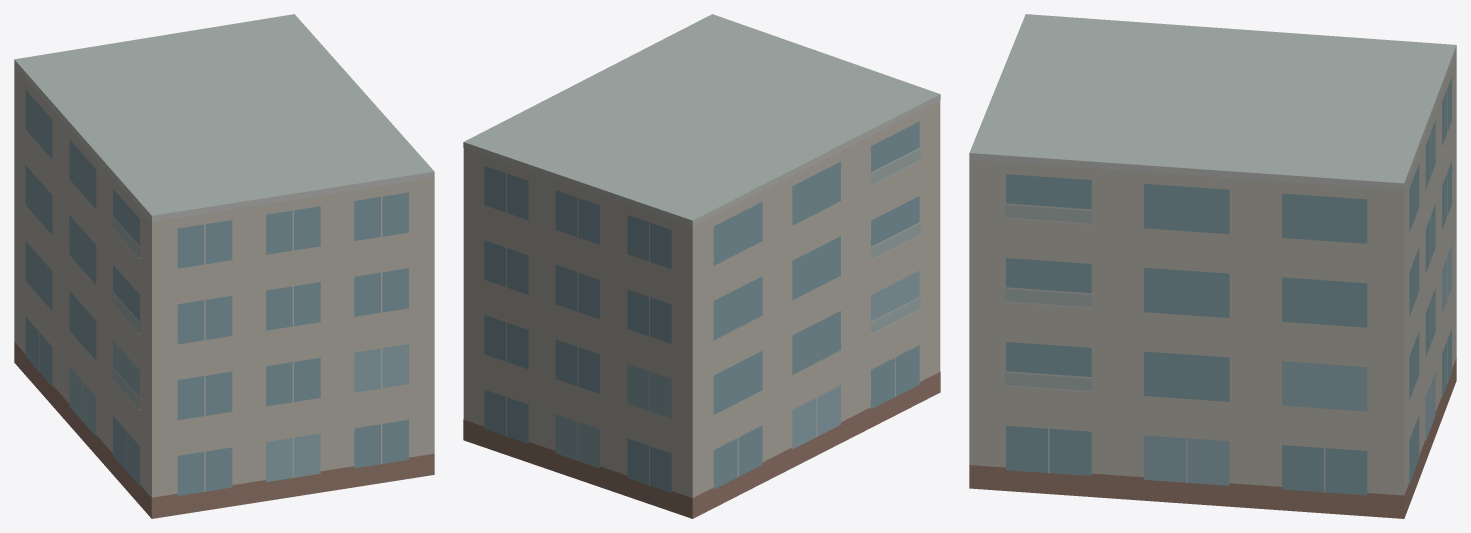
File: survey-upis-32689258.glb
3 views of the same model, side by side, from view 1: azimuth 30°, elevation 25°; view 2: azimuth 150°, elevation 25°; view 3: azimuth 270°, elevation 25° (orthographic). The views are drawn at different scales.
Visible parts, largest first — view 1: survey-upis-32689258.tmp; view 2: survey-upis-32689258.tmp; view 3: survey-upis-32689258.tmp.
Boxes of the visible parts, x1,y1,x2,y2 form: survey-upis-32689258.tmp: [14, 14, 434, 518]; survey-upis-32689258.tmp: [463, 14, 940, 518]; survey-upis-32689258.tmp: [969, 14, 1456, 518].
Size of the model in its own units: 13.23 by 12.2 by 16.07.
